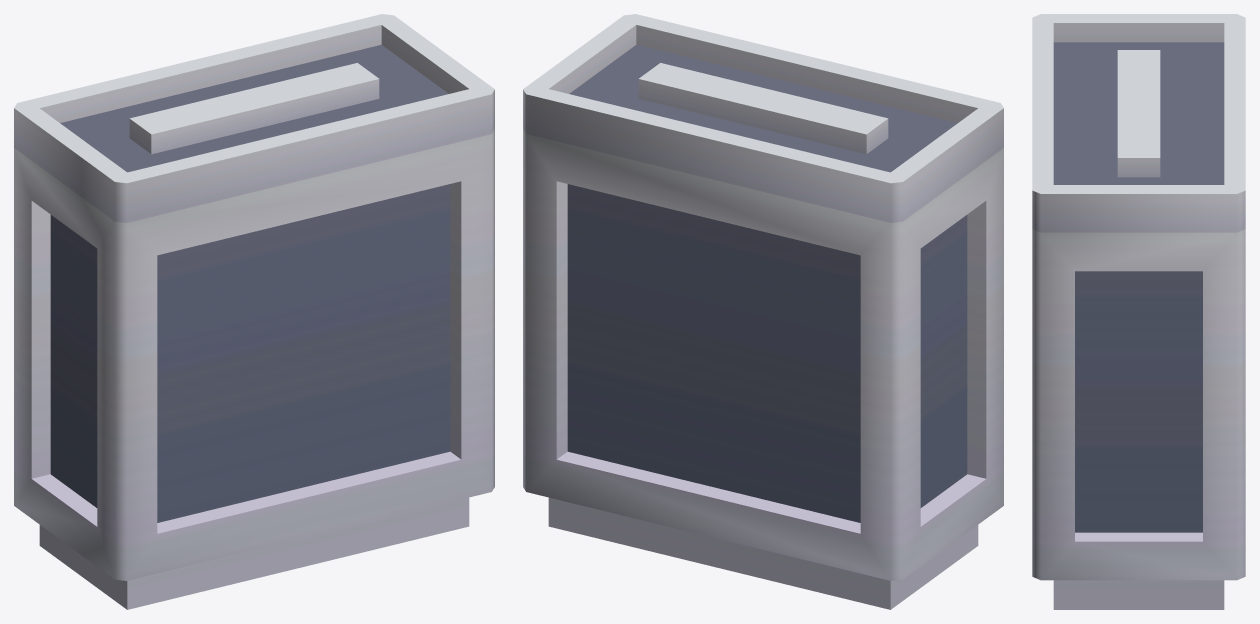
File: low-detail-building-wide-a.glb
3 views of the same model, side by side, from view 1: azimuth 30°, elevation 25°; view 2: azimuth 150°, elevation 25°; view 3: azimuth 270°, elevation 25° (orthographic). The views are drawn at different scales.
Parts seen in each view (by area): view 1: low-detail-building-wide-a; view 2: low-detail-building-wide-a; view 3: low-detail-building-wide-a.
Part boxes in pixels (x1,y1,x2,y2): low-detail-building-wide-a: [14, 14, 494, 609]; low-detail-building-wide-a: [523, 14, 1003, 609]; low-detail-building-wide-a: [1032, 14, 1245, 609].
Bounding box in the file's own units: 1 × 1.1 × 0.5.
Materials: 1 (1 with a texture image).
